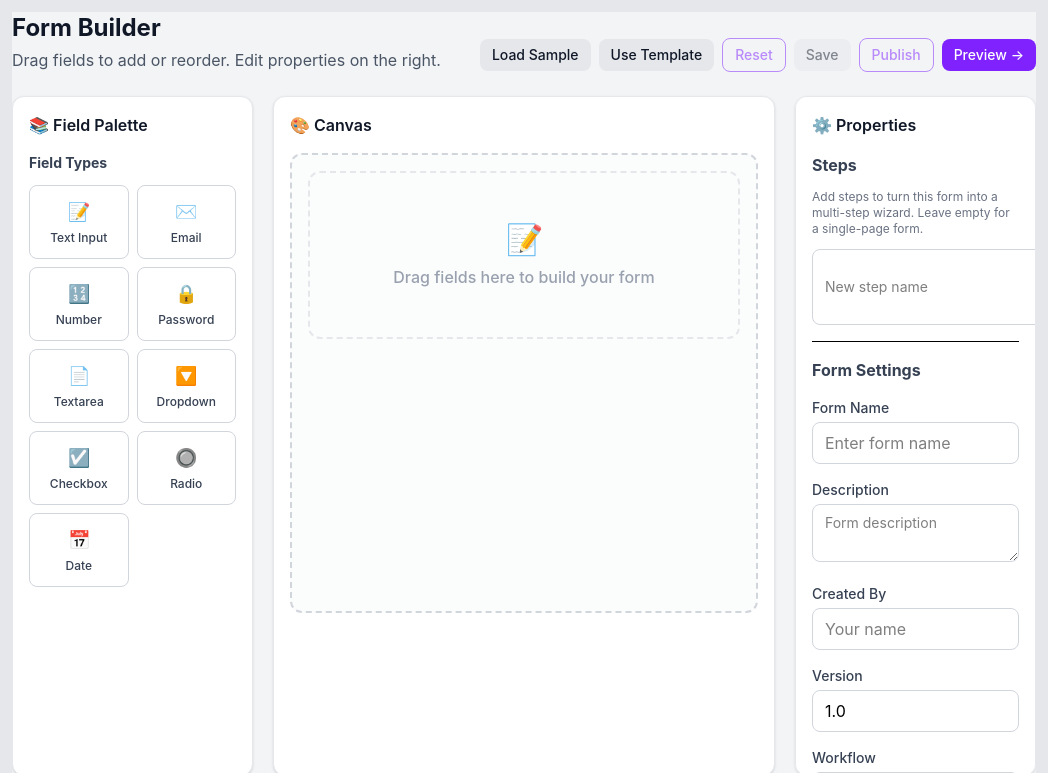
Test: FormBuilder page › Load Sample actually loads fields (regression: it used to load an empty form)
The width and height of the screenshot is (1048, 773).
Click the button "Load Sample" at x=535, y=55, box [480,39,591,71]
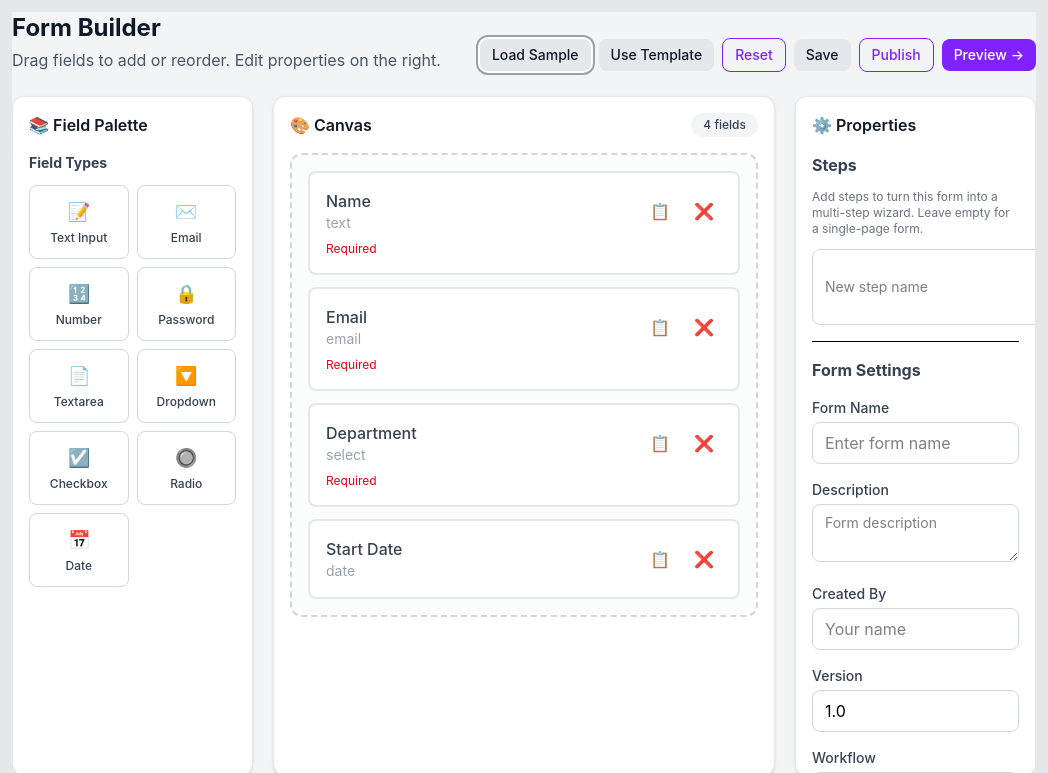
Result: the text "Name" is shown at [326,191,371,211]
